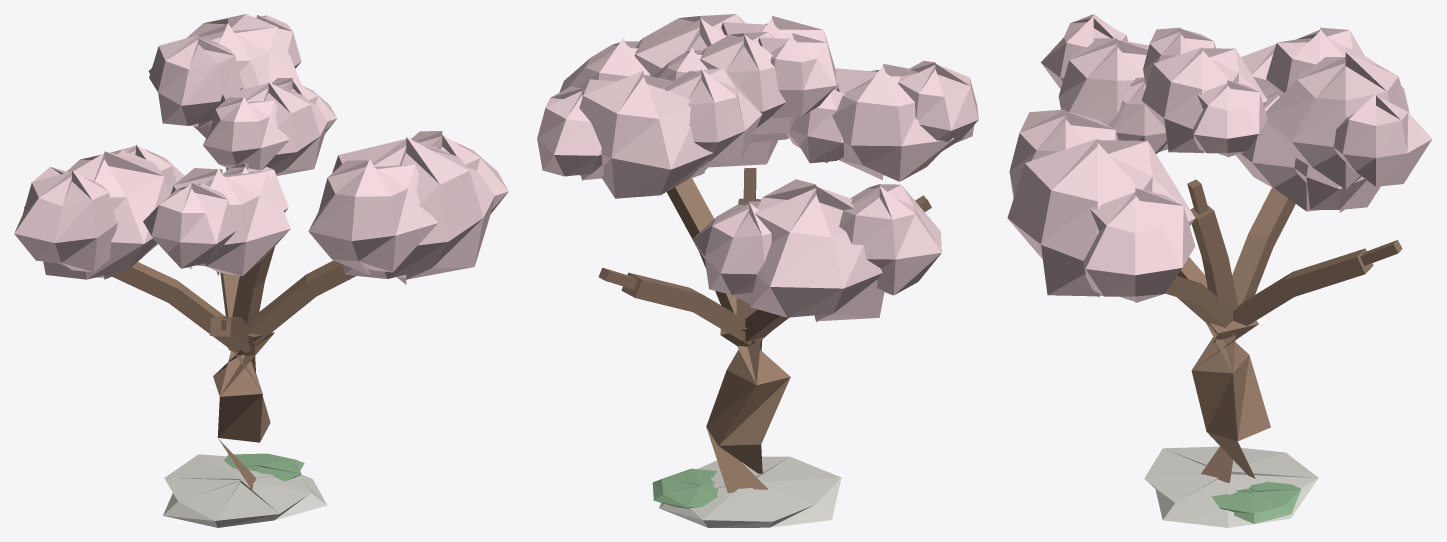
Rendered from plum-tree.glb.
3 renders of one model, left to right at view 1: azimuth 30°, elevation 25°; view 2: azimuth 150°, elevation 25°; view 3: azimuth 270°, elevation 25°, orthographic. The views are drawn at different scales.
Parts seen in each view (by area): view 1: plum-tree-in-blossom; view 2: plum-tree-in-blossom; view 3: plum-tree-in-blossom.
Part boxes in pixels (bbox=[...]): plum-tree-in-blossom: bbox=[14, 14, 508, 527]; plum-tree-in-blossom: bbox=[537, 14, 978, 527]; plum-tree-in-blossom: bbox=[1007, 14, 1432, 527].
Size of the model in its own units: 3.97 by 3.97 by 3.26.
